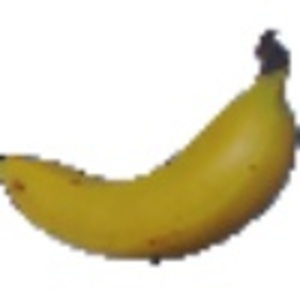banana: (1, 38, 297, 266)
